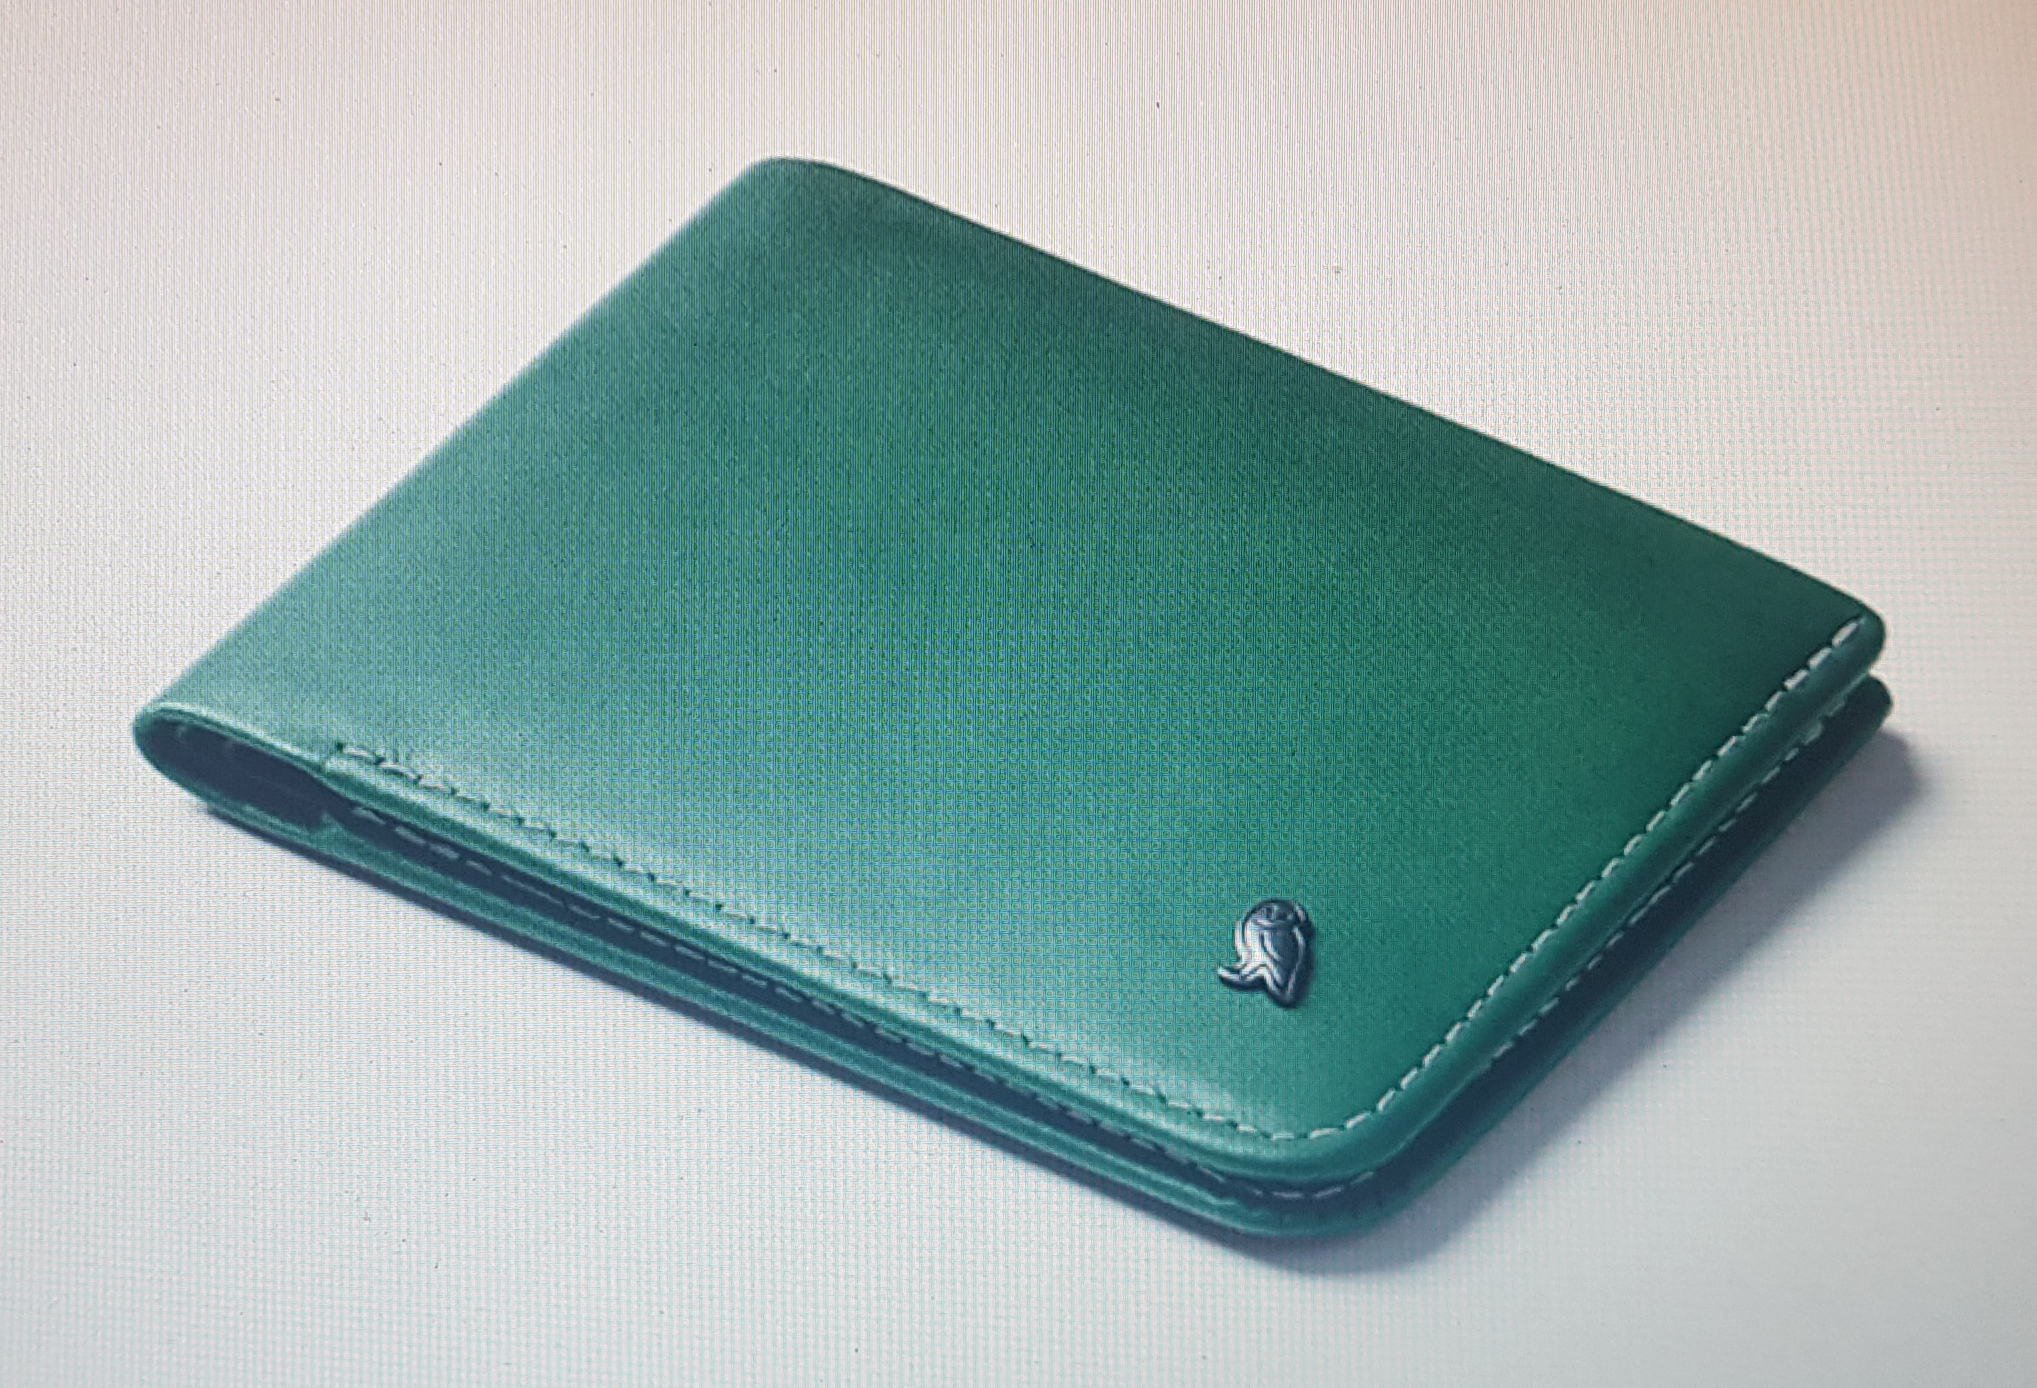Green: (125, 152, 1902, 1256)
